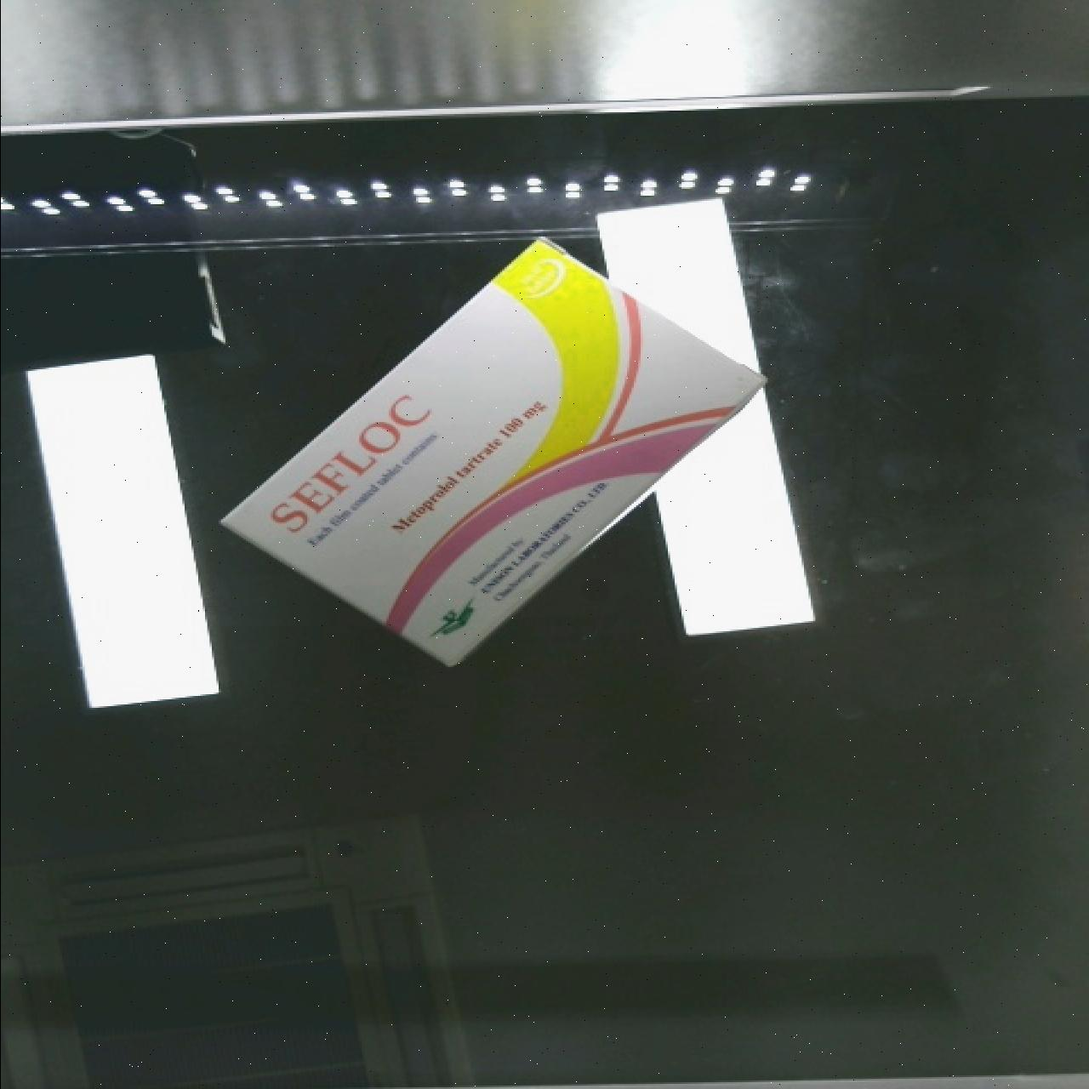medicine_label_obb: (236, 370, 448, 564)
